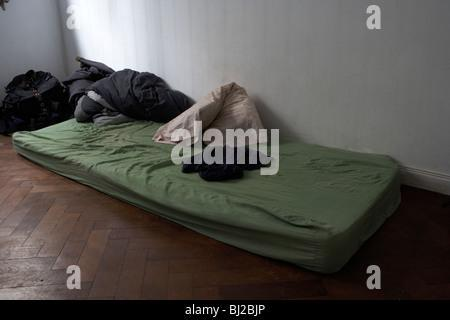Bed-Mattress: (9, 103, 408, 282)
